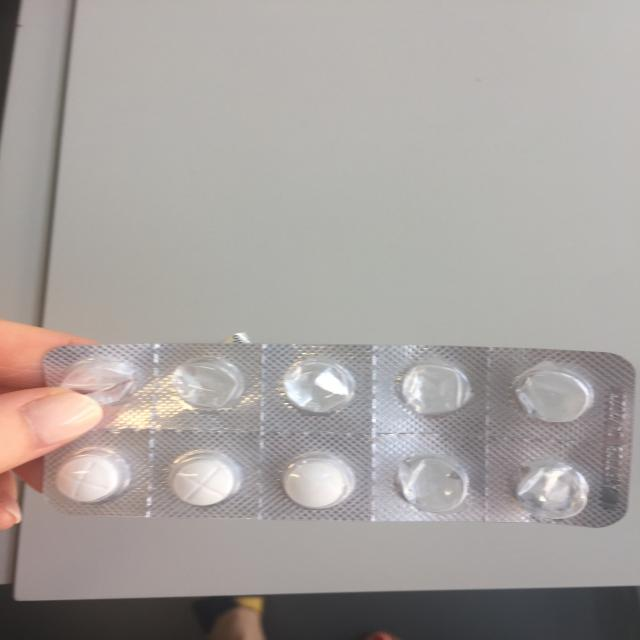Empty: (508, 357, 602, 429), (386, 450, 477, 516), (391, 358, 482, 418), (47, 356, 145, 410), (506, 460, 593, 520), (276, 357, 362, 417), (168, 358, 252, 414)
Pill: (157, 445, 246, 509), (276, 452, 362, 511), (52, 447, 130, 508)
